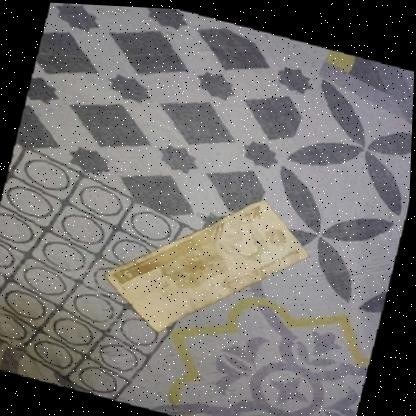five-back-vef: (95, 167, 320, 358)
